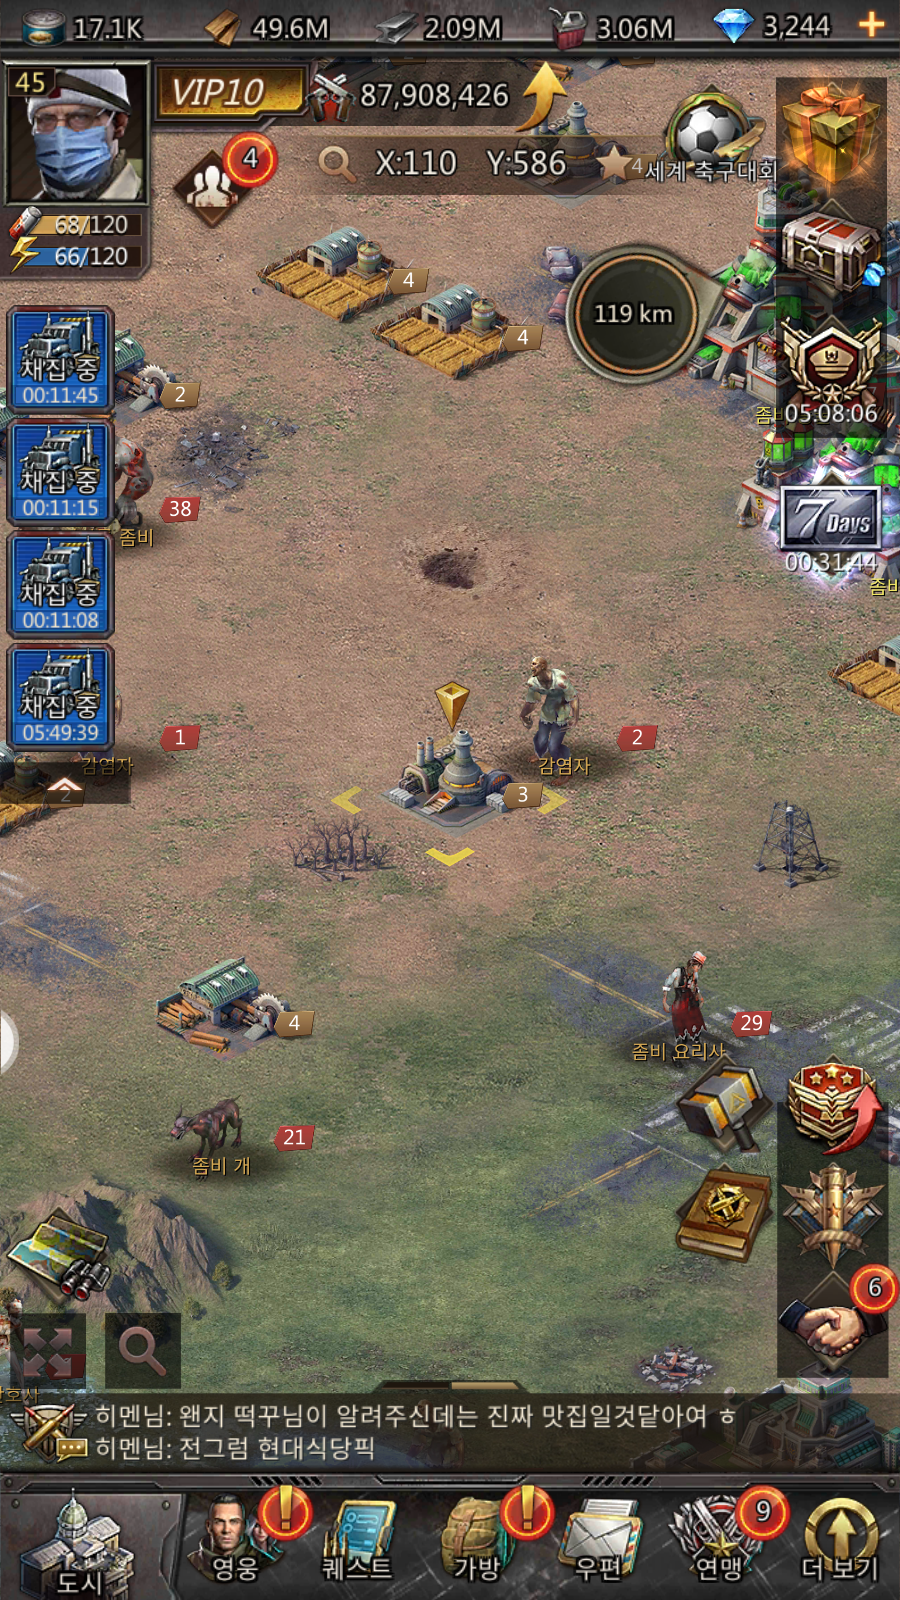city: (11, 1495, 177, 1600)
empty_steel: (327, 675, 580, 880)
open_panel: (100, 1302, 185, 1391)
troops_cnt_4: (167, 127, 287, 242)
